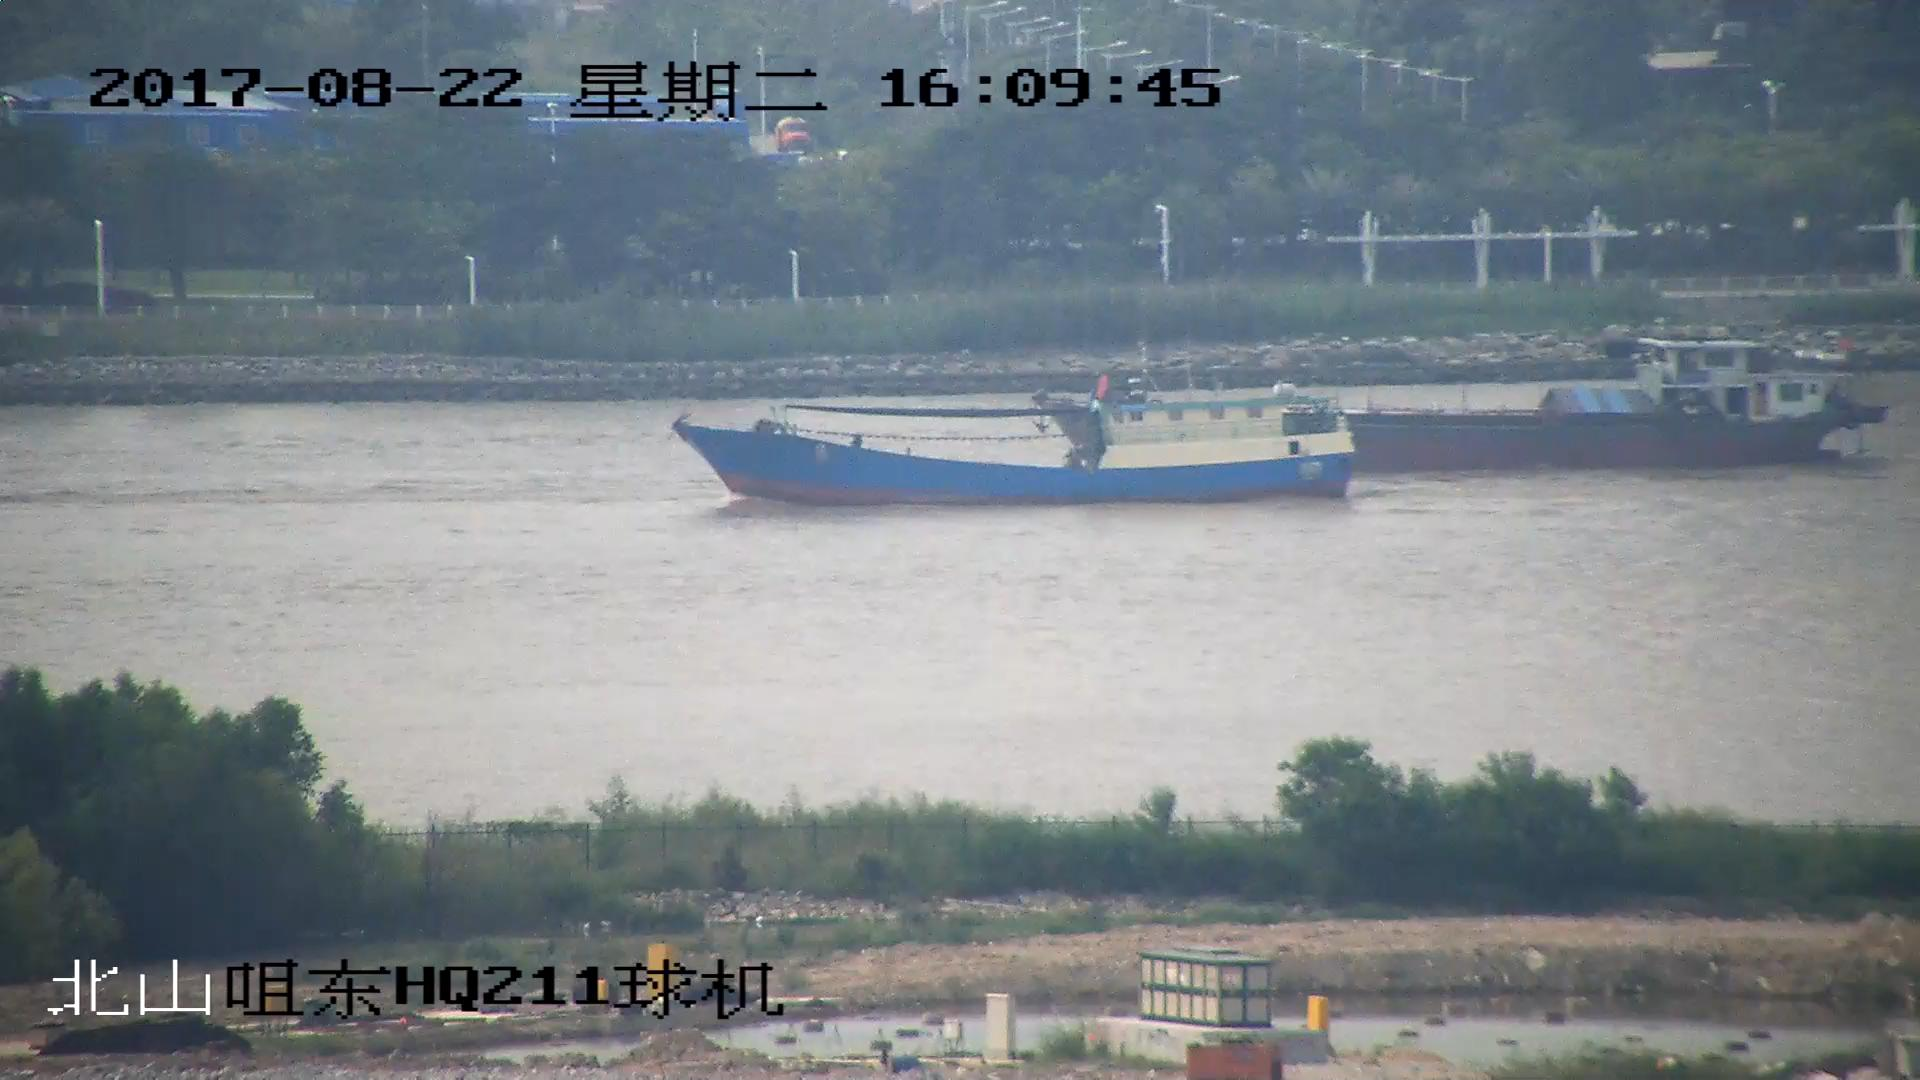bulk cargo carrier: (1036, 329, 1884, 473)
fishing boat: (674, 373, 1359, 508)
